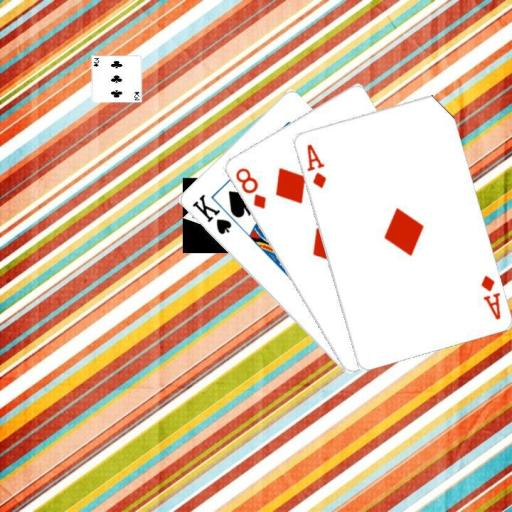8D: (232, 165, 267, 211)
AD: (477, 272, 502, 321), (303, 141, 327, 190)
KS: (189, 191, 234, 236)
